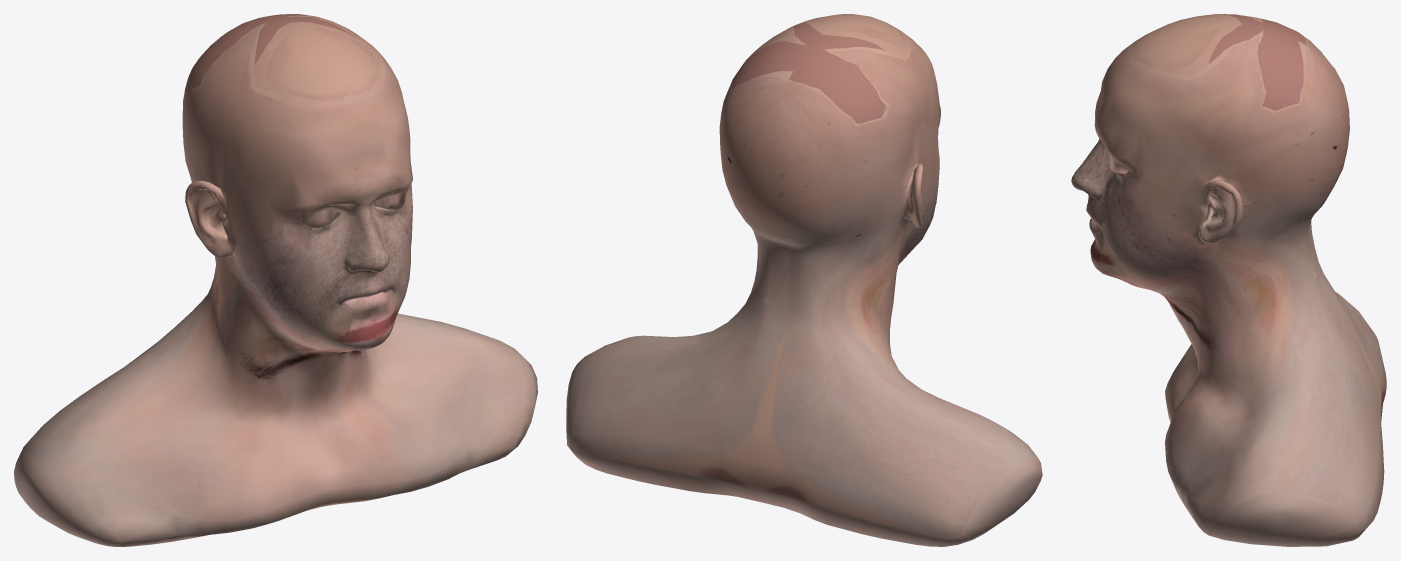
3 renders of one model, left to right at view 1: azimuth 30°, elevation 25°; view 2: azimuth 150°, elevation 25°; view 3: azimuth 270°, elevation 25°, orthographic. The views are drawn at different scales.
Parts seen in each view (by area): view 1: LeePerrySmith; view 2: LeePerrySmith; view 3: LeePerrySmith.
Part boxes in pixels (left/top/right/bottom): LeePerrySmith: left=14, top=14, right=537, bottom=546; LeePerrySmith: left=566, top=14, right=1042, bottom=546; LeePerrySmith: left=1071, top=14, right=1386, bottom=546.
Bounding box in the file's own units: 0.4276 × 0.3973 × 0.2591.
Materials: 1 (1 with a texture image).
